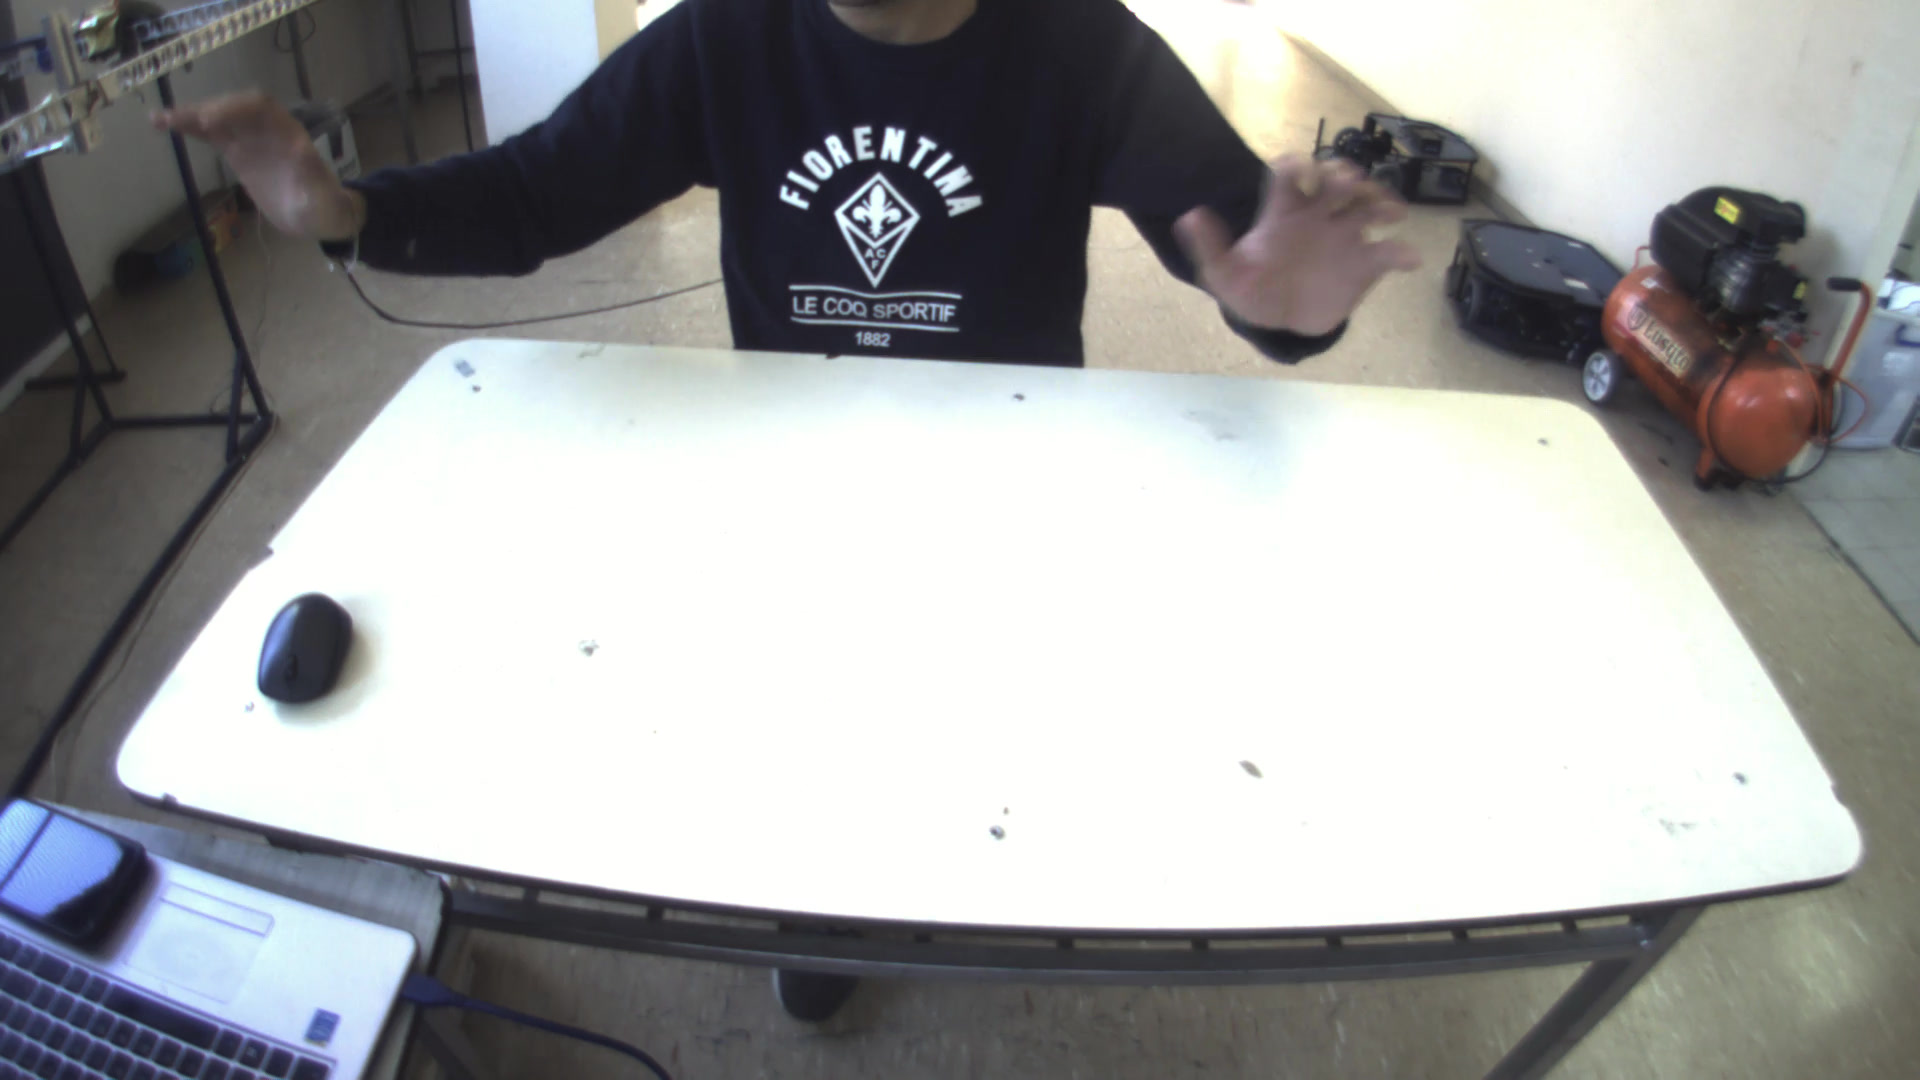hand: (1185, 141, 1443, 348), (152, 78, 365, 240)
